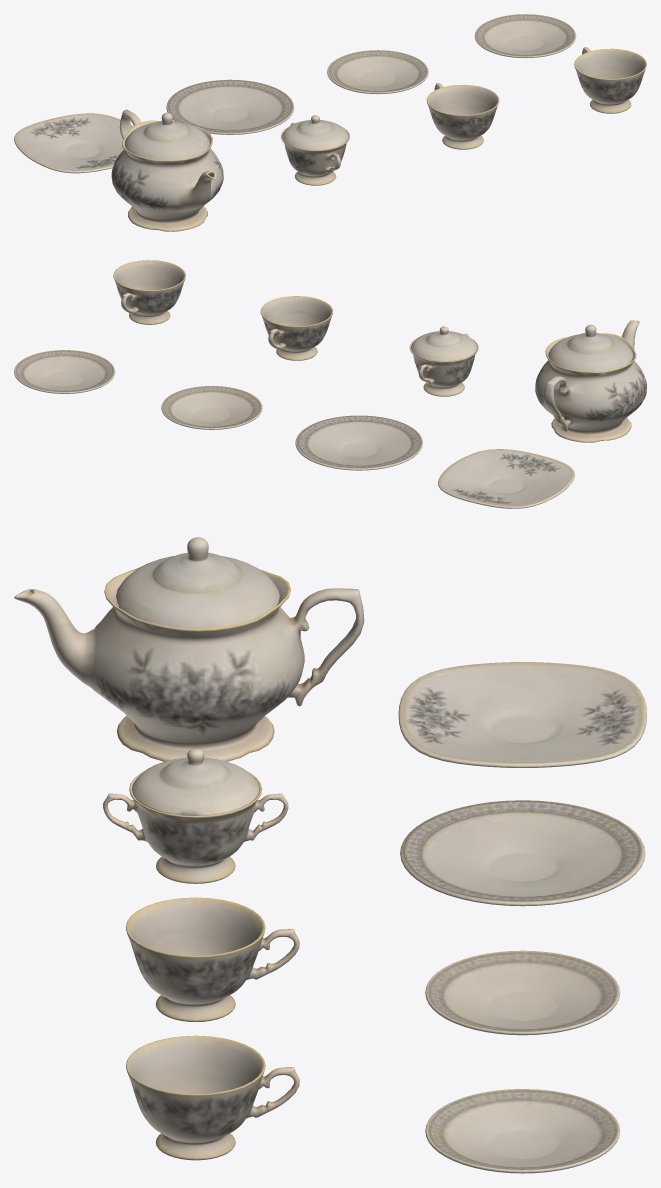
The model's file is tea_set_01.glb.
3 views of the same model, one above another, from view 1: azimuth 30°, elevation 25°; view 2: azimuth 150°, elevation 25°; view 3: azimuth 270°, elevation 25° (orthographic). The views are drawn at different scales.
Parts seen in each view (by area): view 1: tea_set_01_teapot_01, tea_set_01_plate_large_circular_03, tea_set_01_plate_large_square_01, tea_set_01_cup_small_01, tea_set_01_cup_small_02, tea_set_01_saucer_circular_03, tea_set_01_saucer_circular_04, tea_set_01_teapot_01_lid, tea_set_01_sugar_cup_01, tea_set_01_sugar_cup_01_lid; view 2: tea_set_01_teapot_01, tea_set_01_plate_large_square_01, tea_set_01_plate_large_circular_03, tea_set_01_cup_small_01, tea_set_01_cup_small_02, tea_set_01_saucer_circular_04, tea_set_01_saucer_circular_03, tea_set_01_teapot_01_lid, tea_set_01_sugar_cup_01, tea_set_01_sugar_cup_01_lid; view 3: tea_set_01_teapot_01, tea_set_01_plate_large_square_01, tea_set_01_plate_large_circular_03, tea_set_01_cup_small_01, tea_set_01_cup_small_02, tea_set_01_saucer_circular_03, tea_set_01_saucer_circular_04, tea_set_01_teapot_01_lid, tea_set_01_sugar_cup_01, tea_set_01_sugar_cup_01_lid.
Boxes of the visible parts, x1,y1,x2,y2 form: tea_set_01_teapot_01: (111,109,223,231); tea_set_01_plate_large_circular_03: (166,79,294,134); tea_set_01_plate_large_square_01: (14,113,133,173); tea_set_01_cup_small_01: (426,83,499,149); tea_set_01_cup_small_02: (574,47,646,113); tea_set_01_saucer_circular_03: (474,14,576,58); tea_set_01_saucer_circular_04: (327,50,428,94); tea_set_01_teapot_01_lid: (125,112,209,160); tea_set_01_sugar_cup_01: (281,122,349,185); tea_set_01_sugar_cup_01_lid: (282,115,348,150); tea_set_01_teapot_01: (535,320,646,442); tea_set_01_plate_large_square_01: (438,449,574,508); tea_set_01_plate_large_circular_03: (295,415,422,470); tea_set_01_cup_small_01: (260,296,333,360); tea_set_01_cup_small_02: (113,260,185,324); tea_set_01_saucer_circular_04: (161,386,262,429); tea_set_01_saucer_circular_03: (14,350,115,393); tea_set_01_teapot_01_lid: (548,324,633,371); tea_set_01_sugar_cup_01: (409,333,478,396); tea_set_01_sugar_cup_01_lid: (411,326,477,361); tea_set_01_teapot_01: (14,568,364,761); tea_set_01_plate_large_square_01: (398,662,646,767); tea_set_01_plate_large_circular_03: (400,800,645,906); tea_set_01_cup_small_01: (125,897,299,1022); tea_set_01_cup_small_02: (126,1035,299,1160); tea_set_01_saucer_circular_03: (425,1089,620,1173); tea_set_01_saucer_circular_04: (425,950,620,1035); tea_set_01_teapot_01_lid: (116,537,279,628); tea_set_01_sugar_cup_01: (103,771,288,883); tea_set_01_sugar_cup_01_lid: (131,748,259,815).
Size of the model in its own units: 0.9185 by 0.165 by 0.4839.
1 material, 1 textured.
